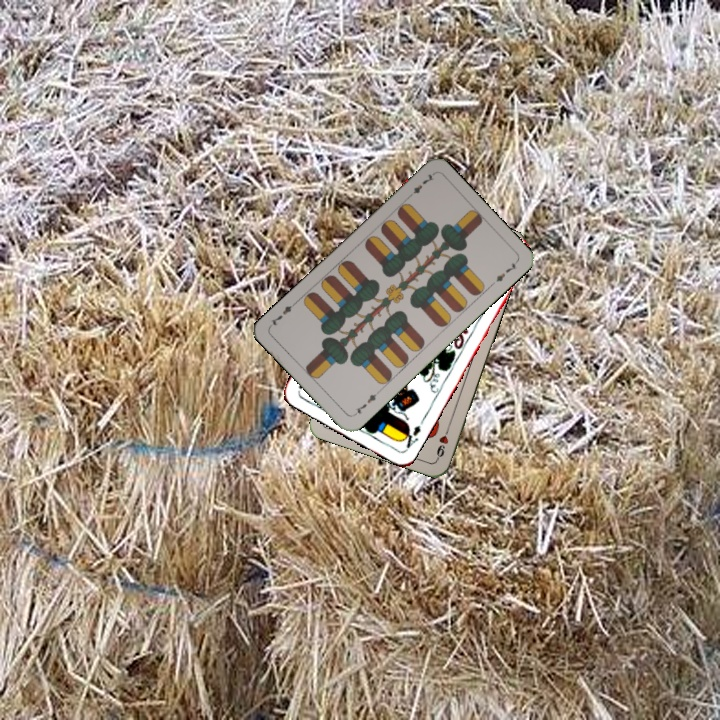E7: (403, 169, 437, 201), (349, 389, 379, 418)
EA: (397, 416, 426, 453)
H9: (432, 423, 452, 462)
